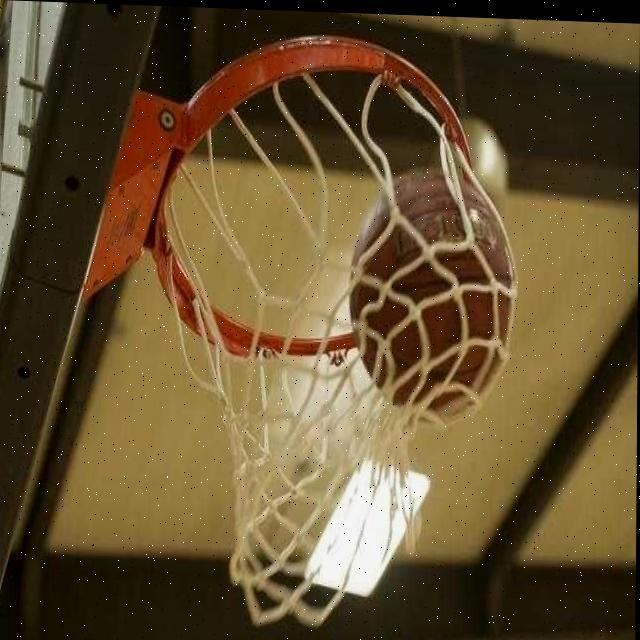Goal: (348, 165, 512, 419)
